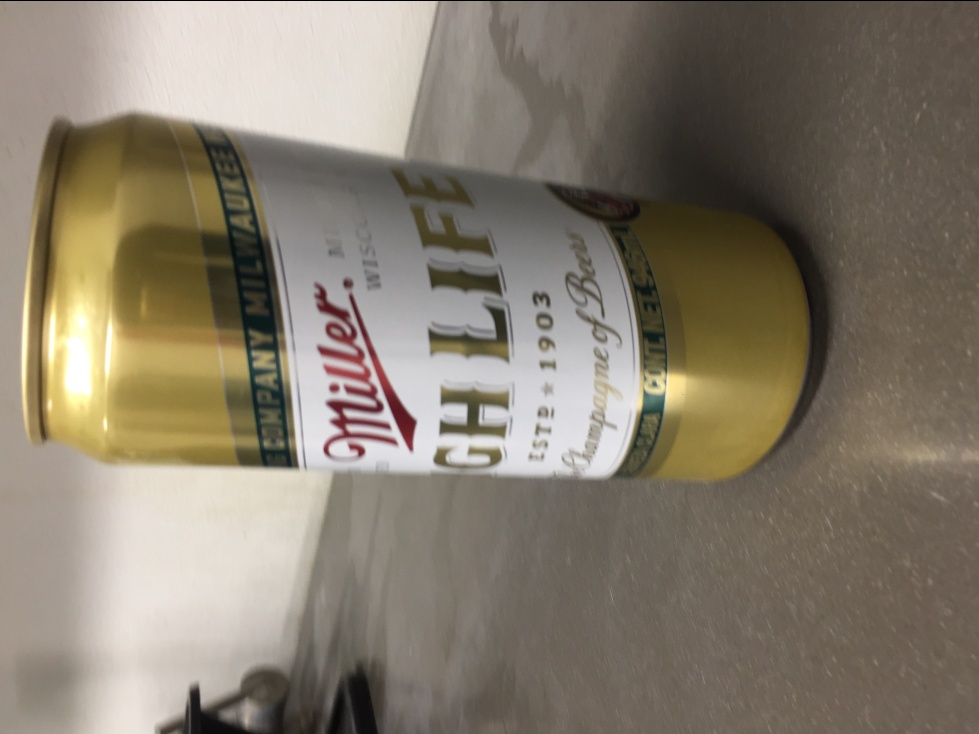miller: (17, 107, 822, 492)
